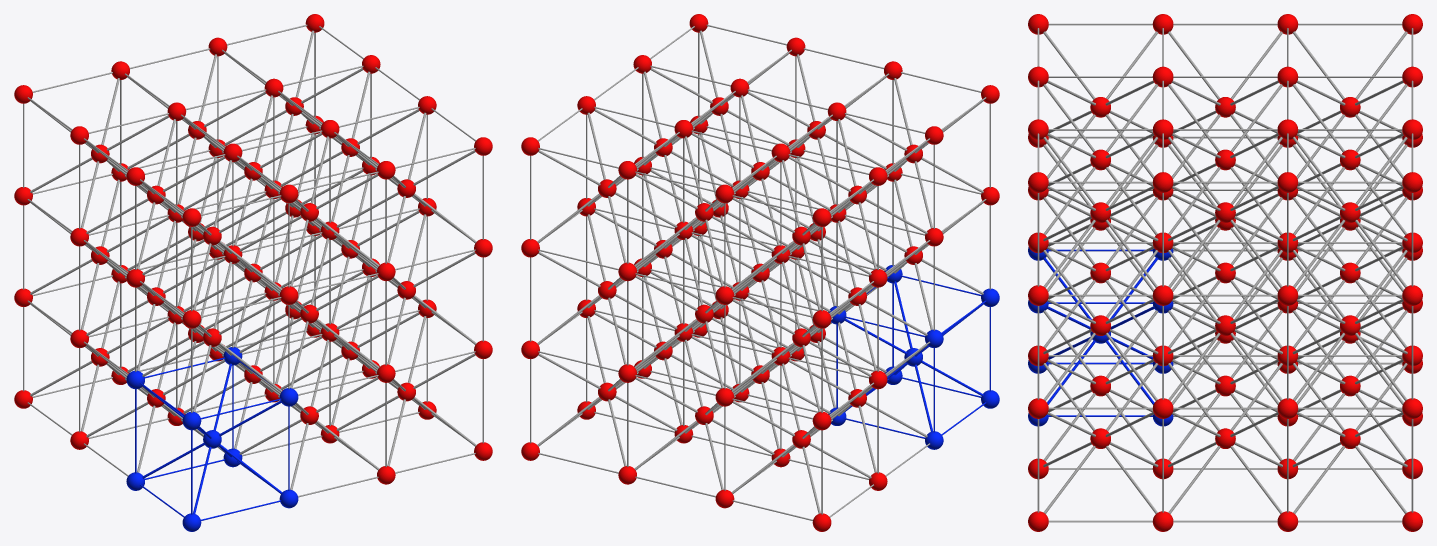
The picture shows the model from 3 angles, left to right: view 1: azimuth 30°, elevation 25°; view 2: azimuth 150°, elevation 25°; view 3: azimuth 270°, elevation 25°; orthographic projection. The views are drawn at different scales.
Parts seen in each view (by area): view 1: world; view 2: world; view 3: world.
Boxes of the visible parts, x1,y1,x2,y2 form: world: (14,14,492,531); world: (521,14,999,531); world: (1028,14,1422,531).
Bounding box in the file's own units: 14.25 × 14.25 × 14.25.
